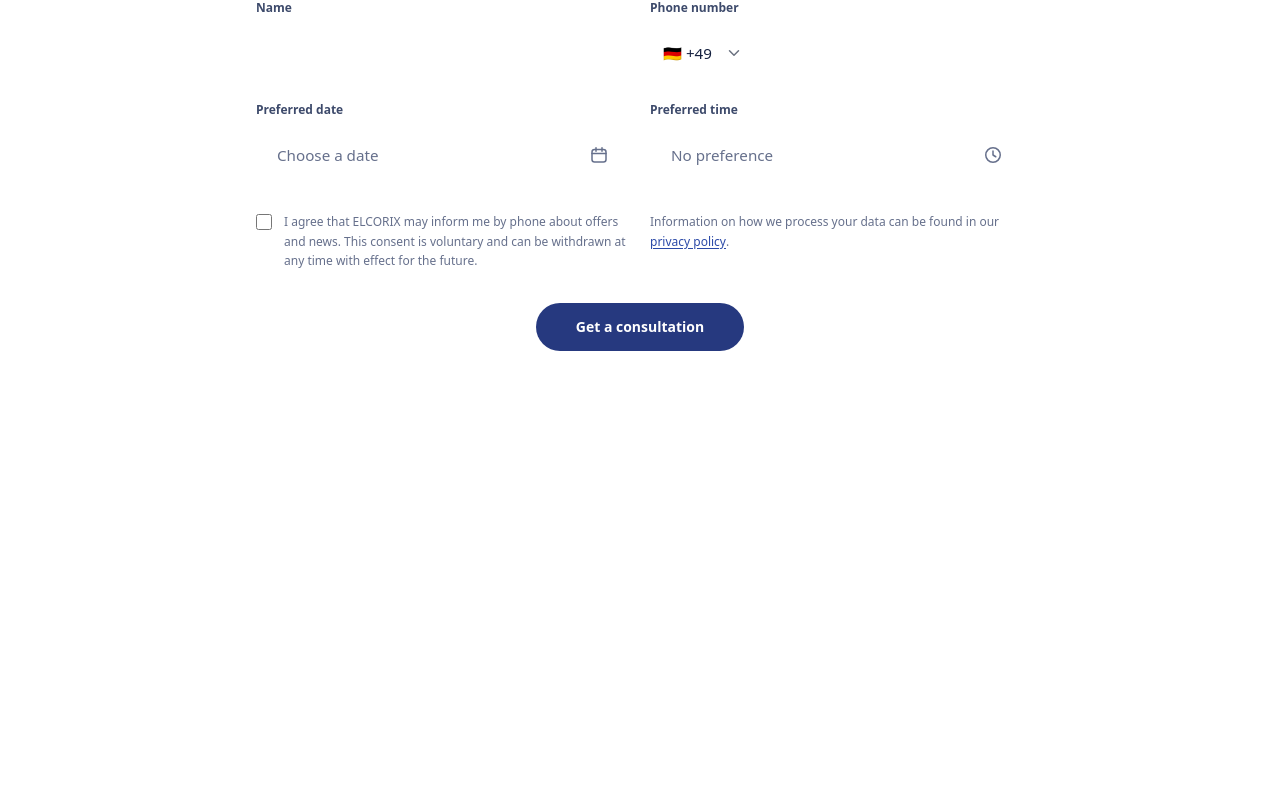
Test: DatePicker (desktop calendar) › opens a calendar of the current month from a button labelled with the field
Step 1. Click the button named "preferred date" → (328, 155), box left=256, top=126, right=630, bottom=184
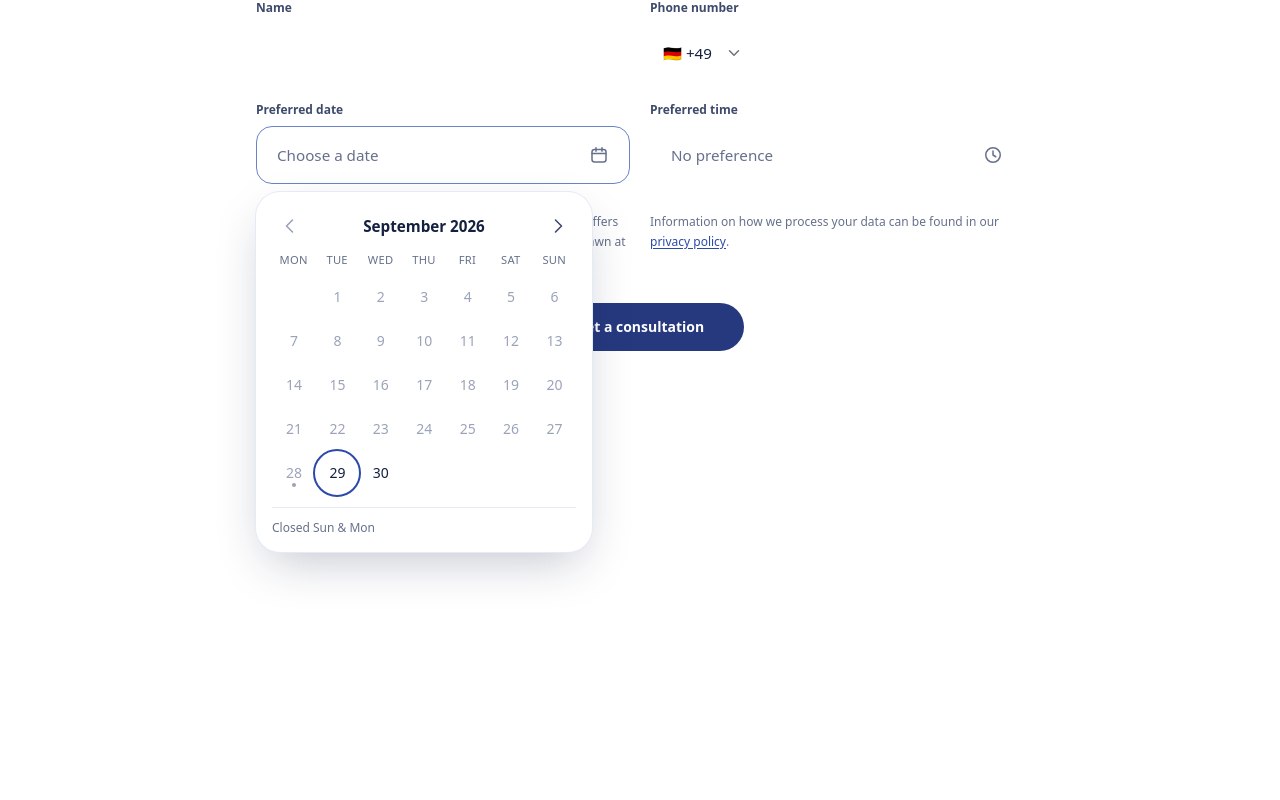
Expected: the text "September 2026" is shown, left=363, top=215, right=485, bottom=237
Expected: the button named "preferred date" is expanded, left=256, top=126, right=630, bottom=184
